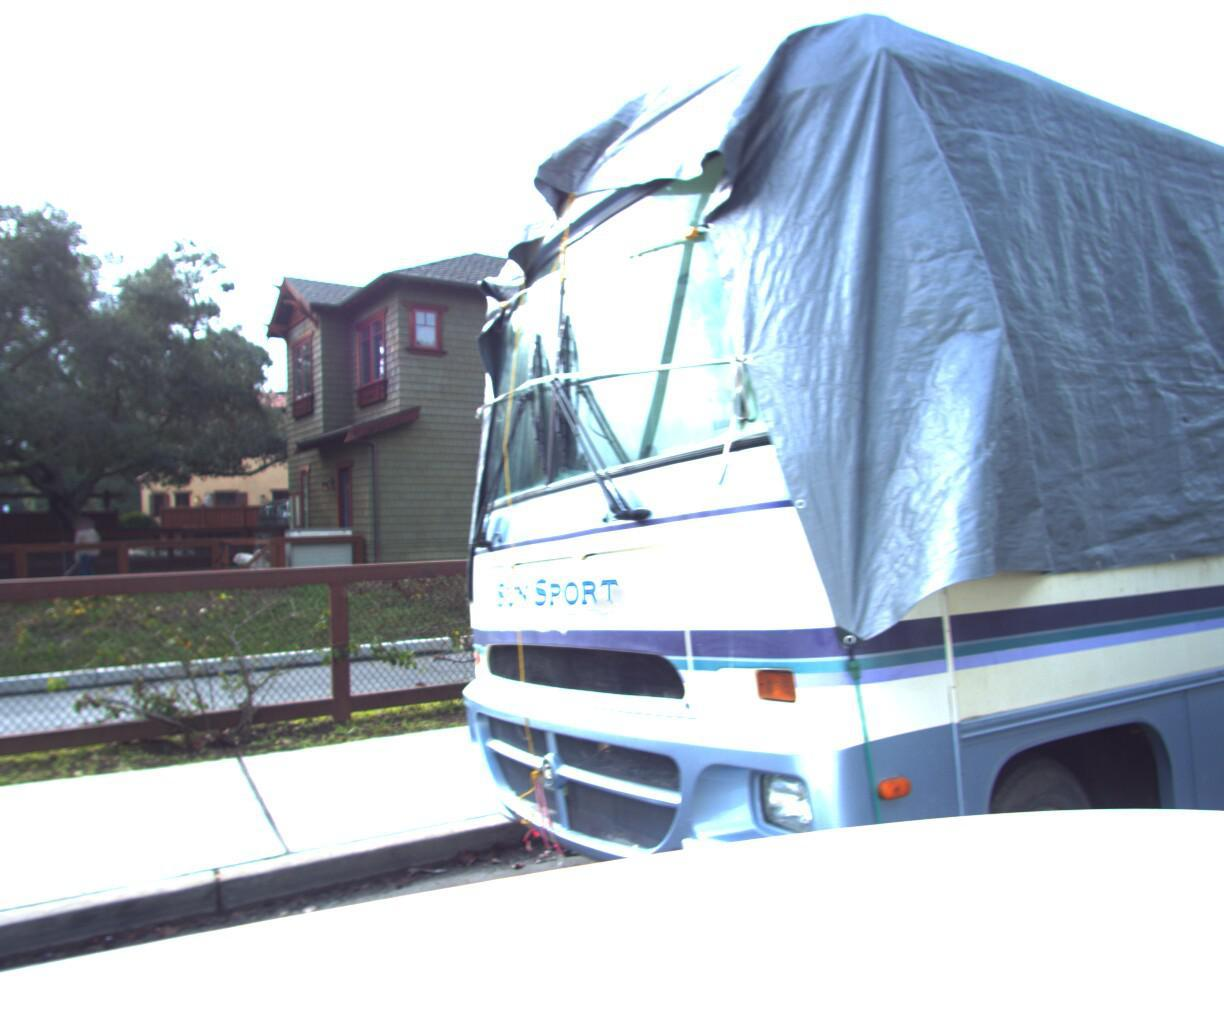other_vehicle: (391, 0, 1224, 1024)
